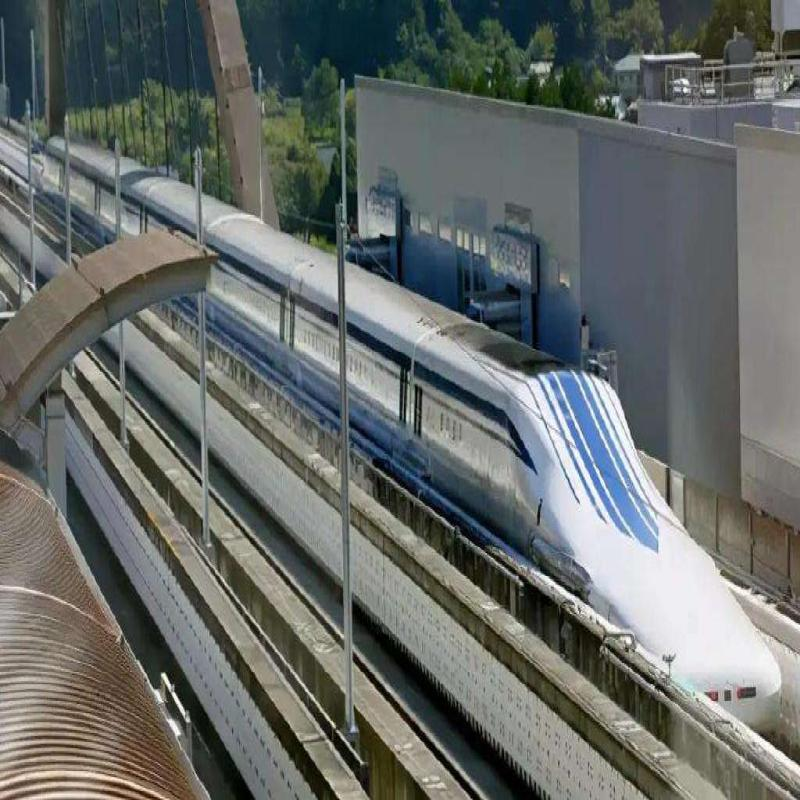train: (203, 199, 781, 713)
